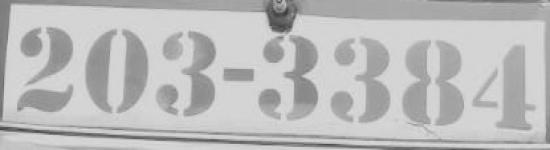-: (220, 60, 260, 90)
0: (80, 20, 153, 128)
2: (16, 18, 80, 121)
3: (329, 26, 397, 133), (151, 25, 221, 126), (256, 28, 323, 128)
4: (474, 38, 542, 135)
8: (399, 34, 474, 135)
